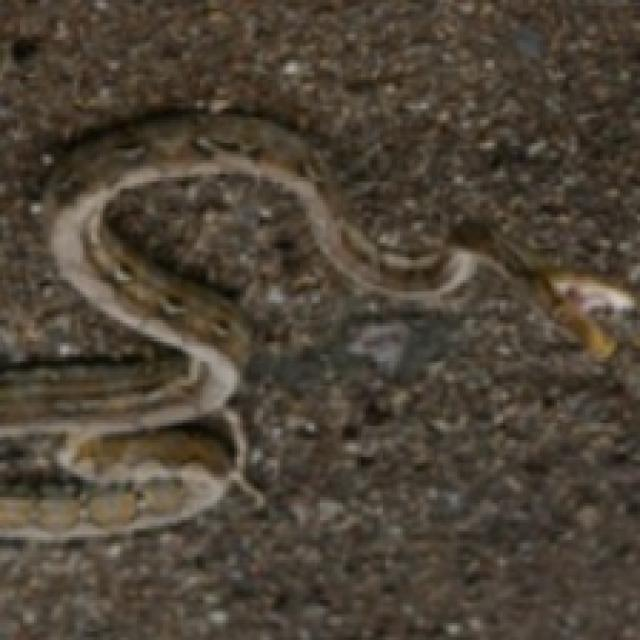reticulated python: (0, 115, 635, 542)
